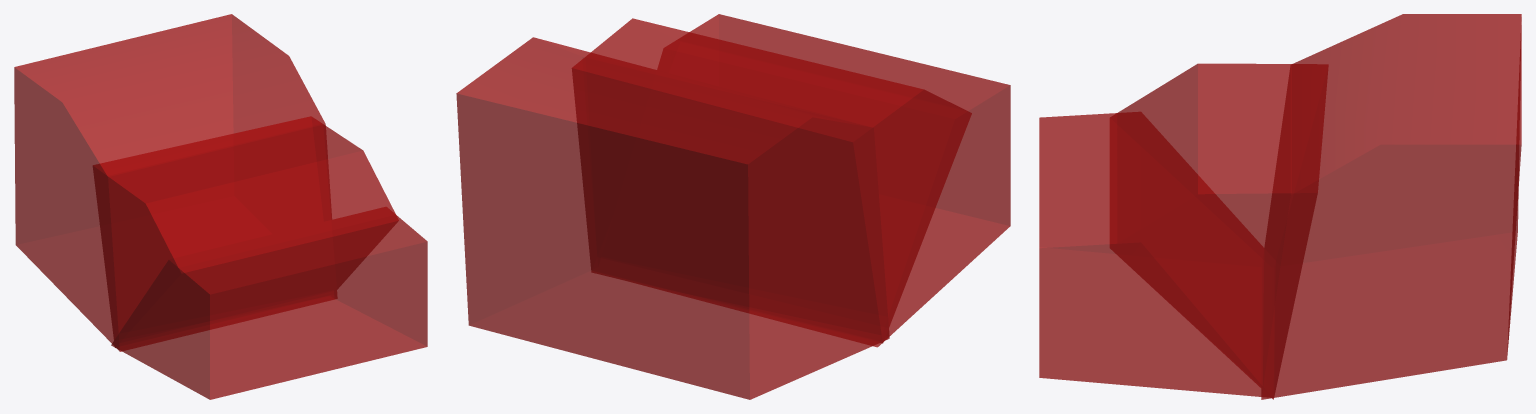
The model's file is SM_Env_Rock_Stairs_02_Collision.fbx.
3 views of the same model, side by side, from view 1: azimuth 30°, elevation 25°; view 2: azimuth 150°, elevation 25°; view 3: azimuth 270°, elevation 25° (orthographic). The views are drawn at different scales.
Parts seen in each view (by area): view 1: SM_Env_Rock_Stairs_02_Collision; view 2: SM_Env_Rock_Stairs_02_Collision; view 3: SM_Env_Rock_Stairs_02_Collision.
Boxes of the visible parts, <box> form: SM_Env_Rock_Stairs_02_Collision: <box>14,14,427,399</box>; SM_Env_Rock_Stairs_02_Collision: <box>456,14,1010,399</box>; SM_Env_Rock_Stairs_02_Collision: <box>1039,14,1521,399</box>.
Bounding box in the file's own units: 286 × 260 × 446.
